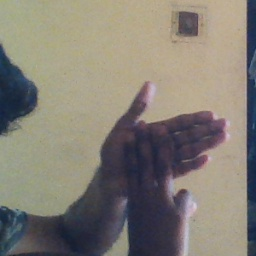M: (95, 75, 229, 234)
